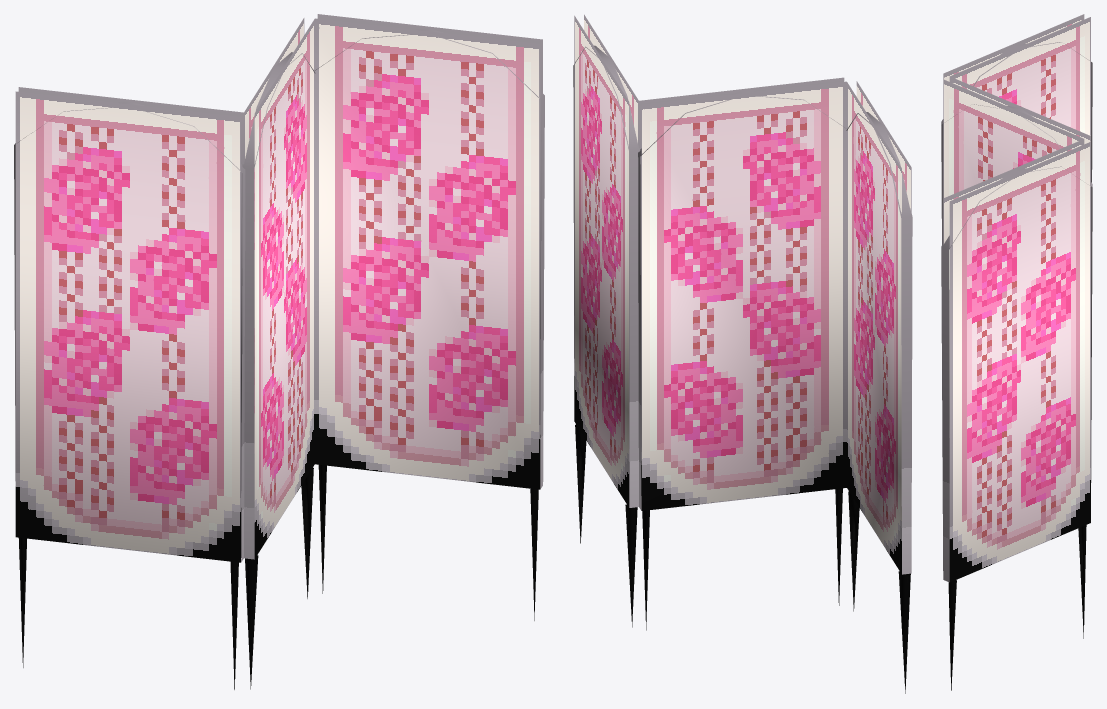
3 views of the same model, side by side, from view 1: azimuth 30°, elevation 25°; view 2: azimuth 150°, elevation 25°; view 3: azimuth 270°, elevation 25° (orthographic). The views are drawn at different scales.
Visible parts, largest first — view 1: 3438kg_sh2_20; view 2: 3438kg_sh2_20; view 3: 3438kg_sh2_20.
Part boxes in pixels (x1,y1,x2,y2): 3438kg_sh2_20: (14,14,544,689); 3438kg_sh2_20: (573,14,912,693); 3438kg_sh2_20: (941,14,1092,690).
Size of the model in its own units: 1.9 by 2.33 by 0.6438.
1 material, 1 textured.
